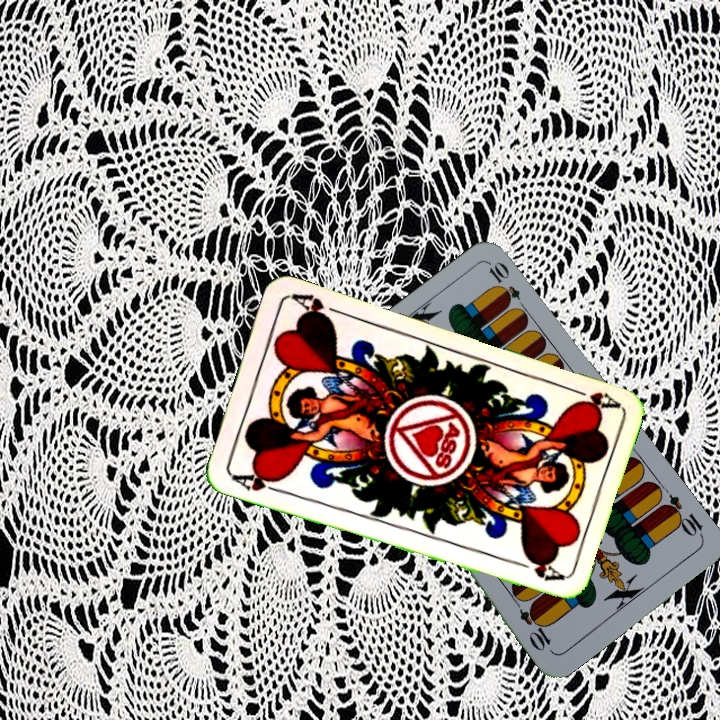E10: (658, 490, 706, 541)
HA: (563, 382, 621, 415), (227, 467, 287, 496)
